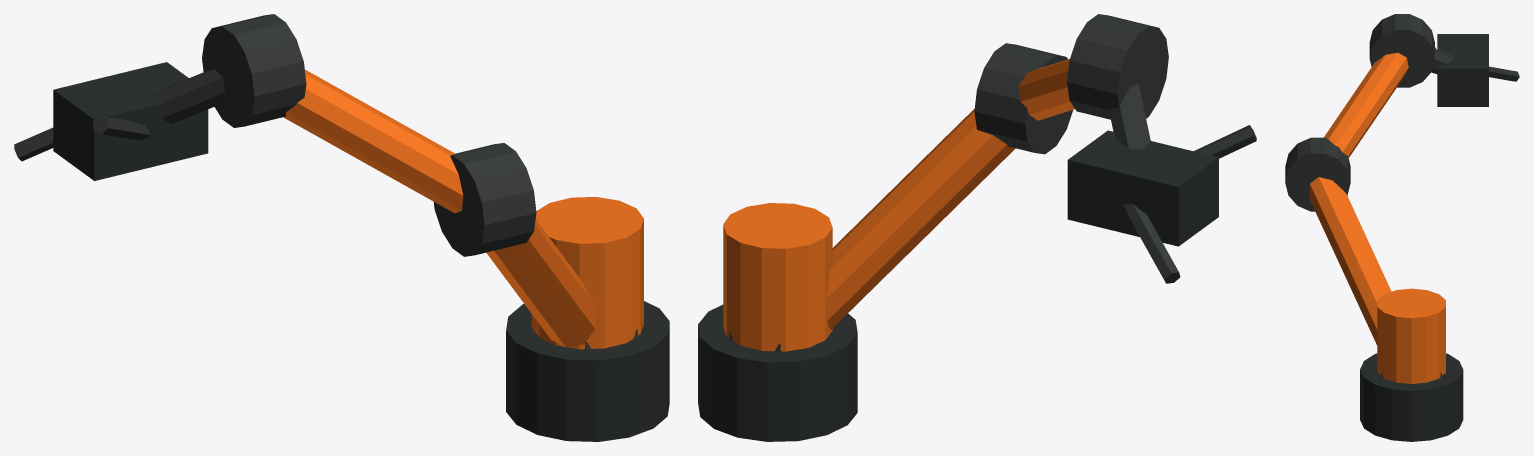
The model's file is Bastion_WarFactoryCMV2_RobotArmB.obj.
3 views of the same model, side by side, from view 1: azimuth 30°, elevation 25°; view 2: azimuth 150°, elevation 25°; view 3: azimuth 270°, elevation 25° (orthographic). The views are drawn at different scales.
Parts seen in each view (by area): view 1: arm_turntable_0, arm_toolhead_8, arm_base_lit_1, arm_forearm_3, arm_joint_7, arm_joint_6, arm_upper_2, arm_wrist_4, claw_9, claw_10; view 2: arm_turntable_0, arm_base_lit_1, arm_upper_2, arm_toolhead_8, arm_joint_7, arm_joint_6, arm_forearm_3, arm_wrist_4, claw_10, claw_9; view 3: arm_turntable_0, arm_base_lit_1, arm_upper_2, arm_toolhead_8, arm_forearm_3, arm_joint_7, arm_joint_6, claw_10, arm_wrist_4.
Boxes of the visible parts, x1,y1,x2,y2 form: arm_turntable_0: [506, 301, 669, 441]; arm_toolhead_8: [53, 62, 208, 180]; arm_base_lit_1: [531, 197, 643, 349]; arm_forearm_3: [283, 69, 463, 213]; arm_joint_7: [202, 14, 306, 127]; arm_joint_6: [433, 143, 536, 256]; arm_upper_2: [486, 219, 595, 347]; arm_wrist_4: [150, 69, 224, 123]; claw_9: [92, 116, 150, 140]; claw_10: [14, 127, 53, 161]; arm_turntable_0: [698, 304, 857, 441]; arm_base_lit_1: [723, 203, 832, 351]; arm_upper_2: [826, 109, 1015, 329]; arm_toolhead_8: [1067, 130, 1218, 246]; arm_joint_7: [1067, 14, 1168, 119]; arm_joint_6: [974, 43, 1072, 154]; arm_forearm_3: [1018, 59, 1074, 120]; arm_wrist_4: [1109, 83, 1150, 149]; claw_10: [1123, 203, 1180, 283]; claw_9: [1194, 125, 1256, 158]; arm_turntable_0: [1360, 353, 1463, 441]; arm_base_lit_1: [1377, 288, 1445, 383]; arm_upper_2: [1309, 177, 1391, 345]; arm_toolhead_8: [1437, 34, 1488, 106]; arm_forearm_3: [1324, 53, 1408, 157]; arm_joint_7: [1369, 14, 1434, 87]; arm_joint_6: [1285, 137, 1350, 211]; claw_10: [1489, 66, 1519, 81]; arm_wrist_4: [1431, 49, 1454, 73].
Bounding box in the file's own units: 1.74 × 1.39 × 1.
3 materials, 3 textured.
